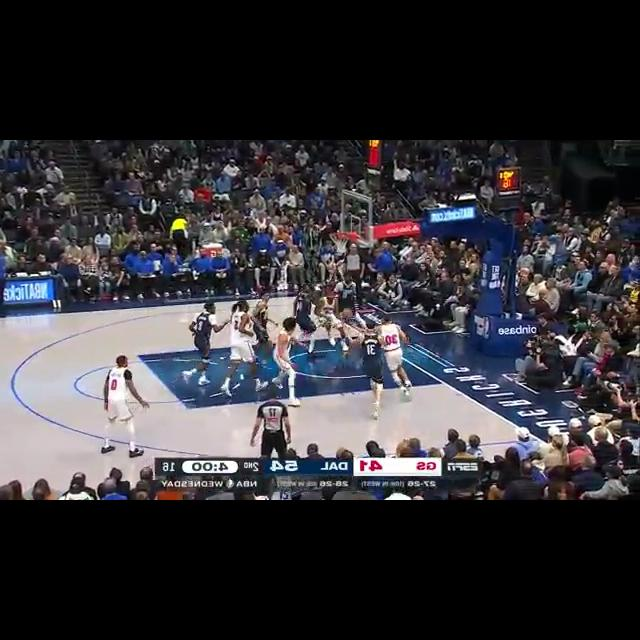Ball: (341, 306, 355, 320)
Team-1-Player: (178, 296, 226, 390), (354, 323, 398, 423), (290, 279, 326, 357), (252, 288, 278, 346)
Team-2-Player: (92, 350, 156, 456), (218, 294, 268, 400), (374, 316, 426, 402), (269, 322, 311, 408), (312, 288, 358, 348)
